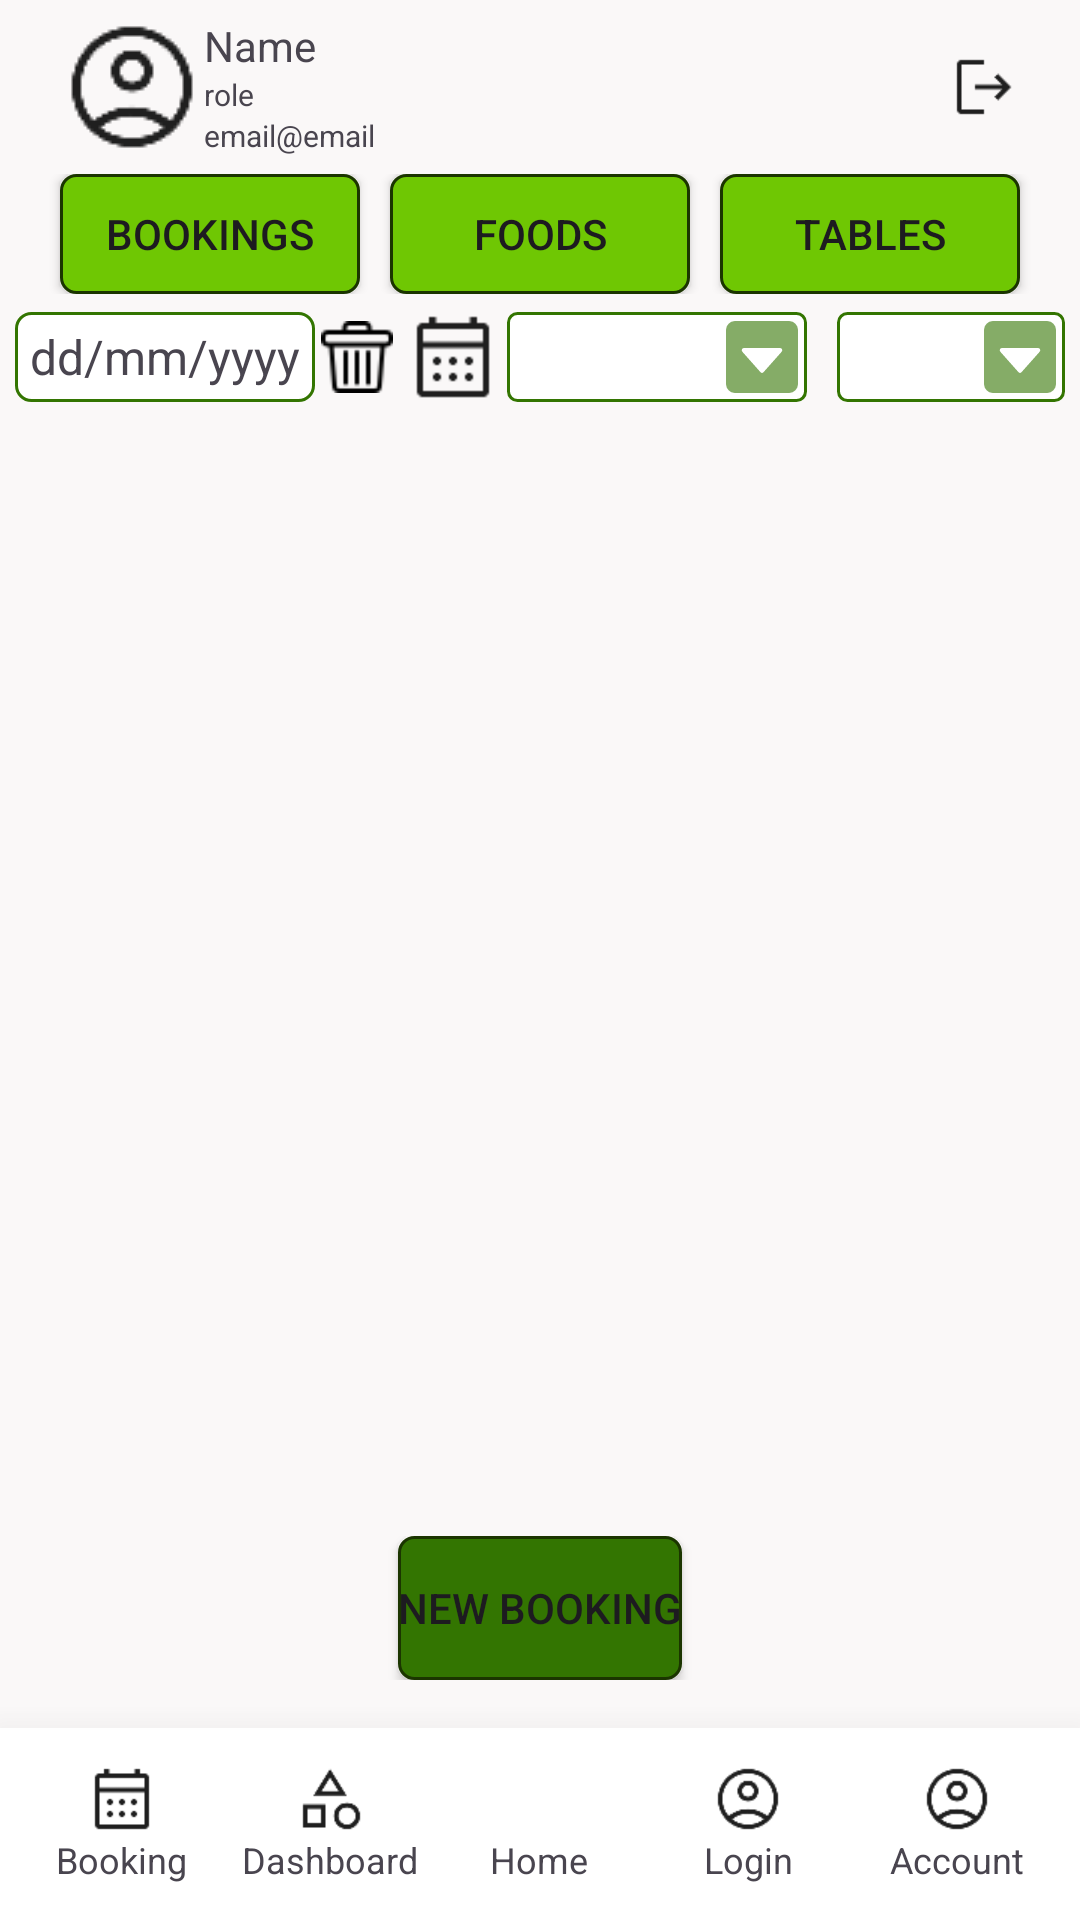

Where to tap for icons on this 1080×1920 app screen, as (x=x, y=y):
calendar: (x=453, y=357), (x=122, y=1799)
category: (x=331, y=1799)
delete: (x=357, y=357)
